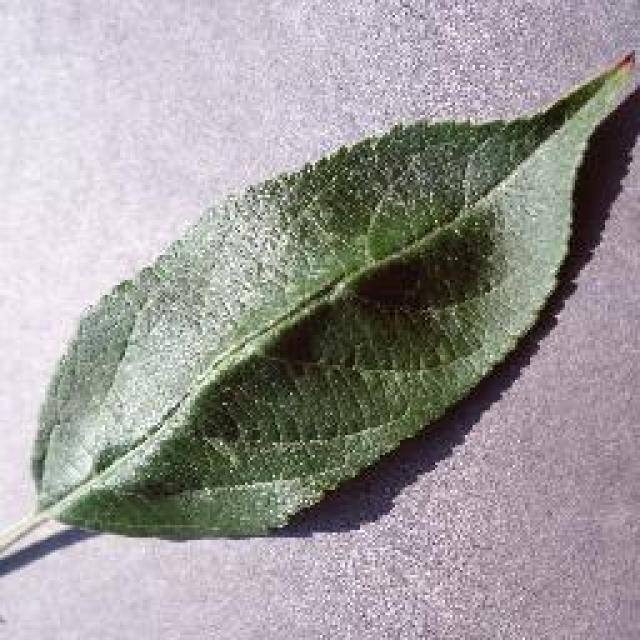apple healthy: (0, 42, 638, 588)
